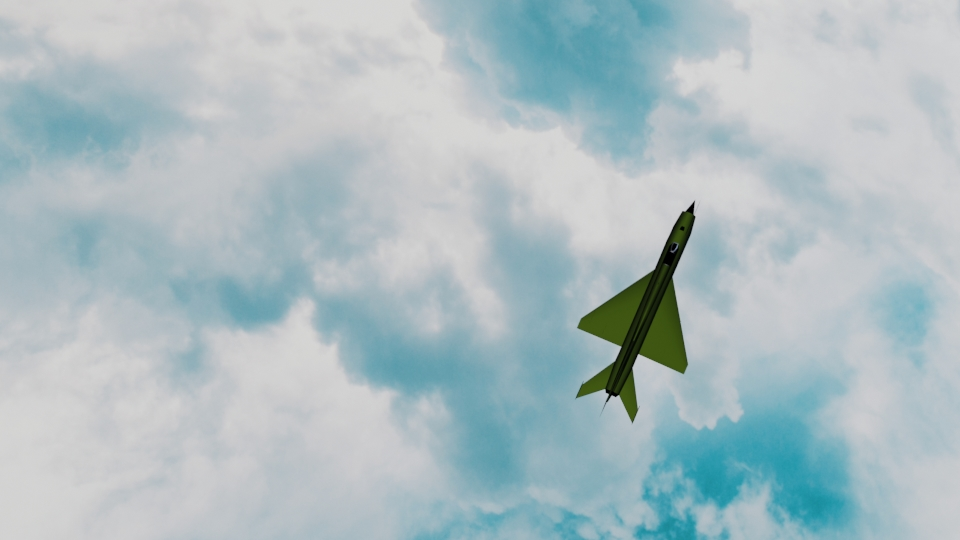plane: (573, 196, 701, 424)
